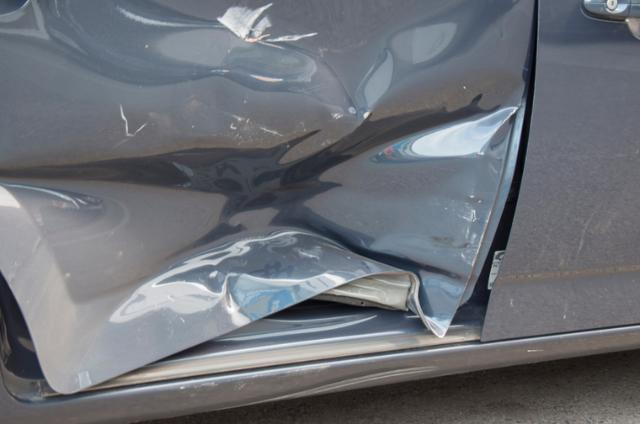Door: (2, 0, 503, 348)
